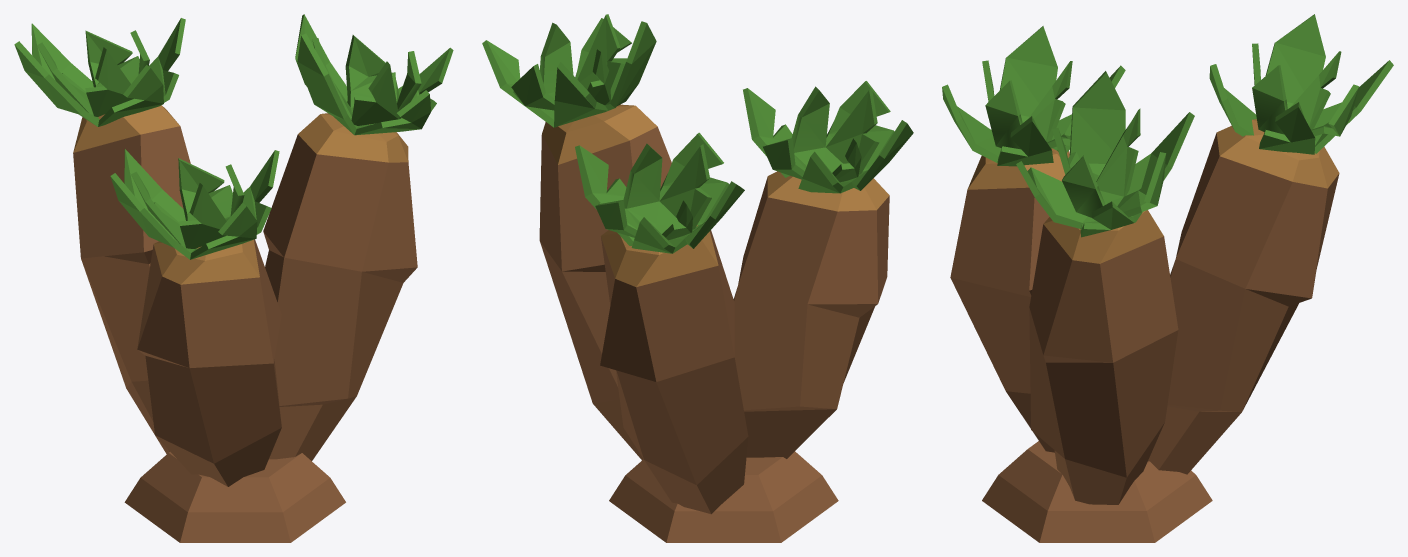
Rendered from nature-cycad-triple-prehistoric.glb.
3 renders of one model, left to right at view 1: azimuth 30°, elevation 25°; view 2: azimuth 150°, elevation 25°; view 3: azimuth 270°, elevation 25°, orthographic. The views are drawn at different scales.
Parts seen in each view (by area): view 1: SM_Cycad_Triple_Prehistoric; view 2: SM_Cycad_Triple_Prehistoric; view 3: SM_Cycad_Triple_Prehistoric.
Boxes of the visible parts, x1=… form: SM_Cycad_Triple_Prehistoric: x1=14, y1=14, x2=453, y2=542; SM_Cycad_Triple_Prehistoric: x1=482, y1=14, x2=913, y2=542; SM_Cycad_Triple_Prehistoric: x1=942, y1=14, x2=1393, y2=542.
Size of the model in its own units: 3.92 by 4.45 by 3.91.
